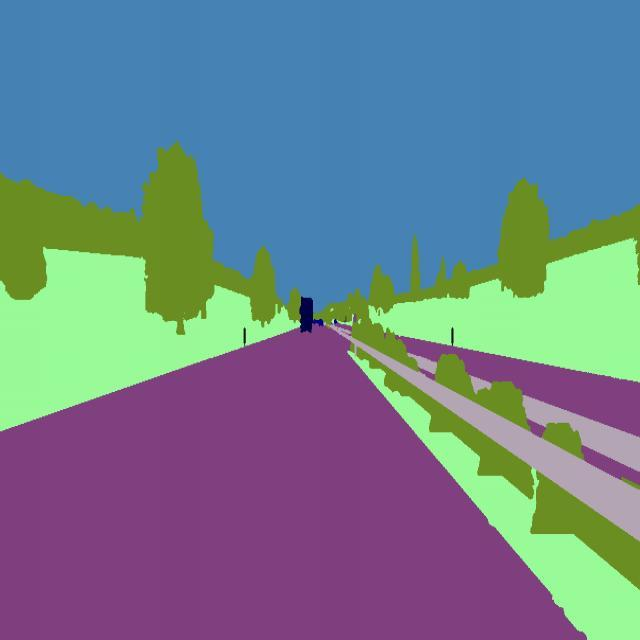safe: (296, 292, 316, 336), (314, 316, 328, 328)
